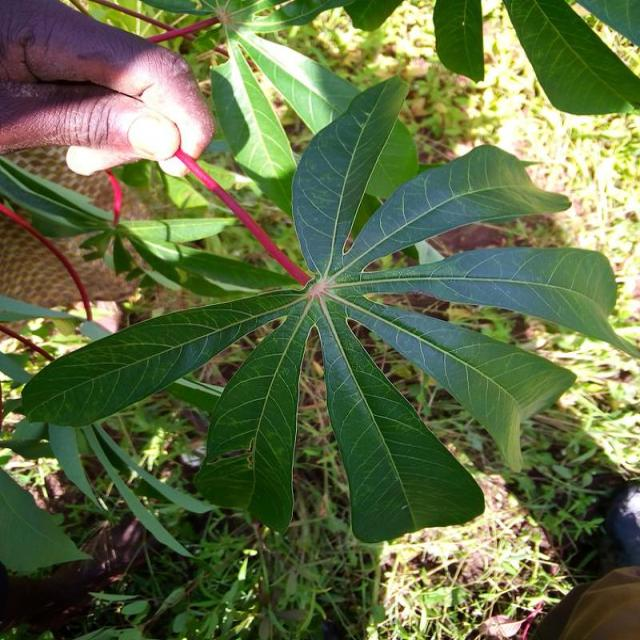cassava leaf: (19, 65, 636, 543), (291, 72, 420, 278)
